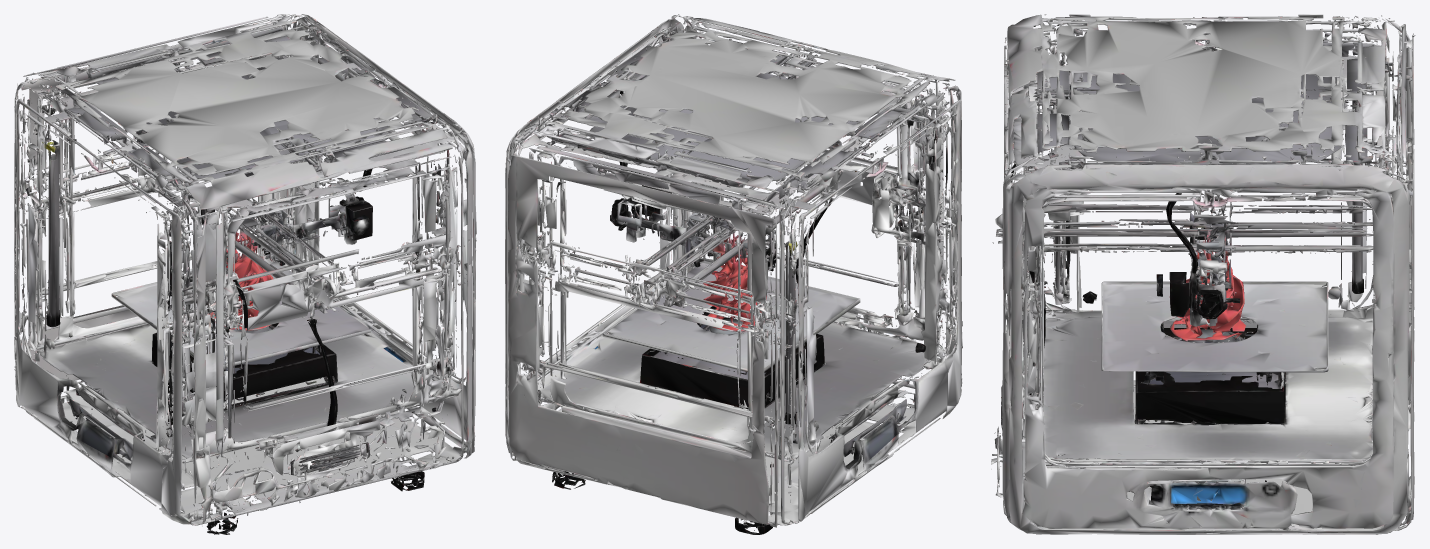
File: room-03-hero.glb
The picture shows the model from 3 angles, left to right: view 1: azimuth 30°, elevation 25°; view 2: azimuth 150°, elevation 25°; view 3: azimuth 270°, elevation 25°; orthographic projection. The views are drawn at different scales.
Parts seen in each view (by area): view 1: geometry_0; view 2: geometry_0; view 3: geometry_0.
Part boxes in pixels (<box>): geometry_0: <box>14,14,476,534</box>; geometry_0: <box>505,14,962,534</box>; geometry_0: <box>991,14,1415,534</box>.
Bounding box in the file's own units: 0.9019 × 1 × 0.9826.
1 material, 1 textured.
